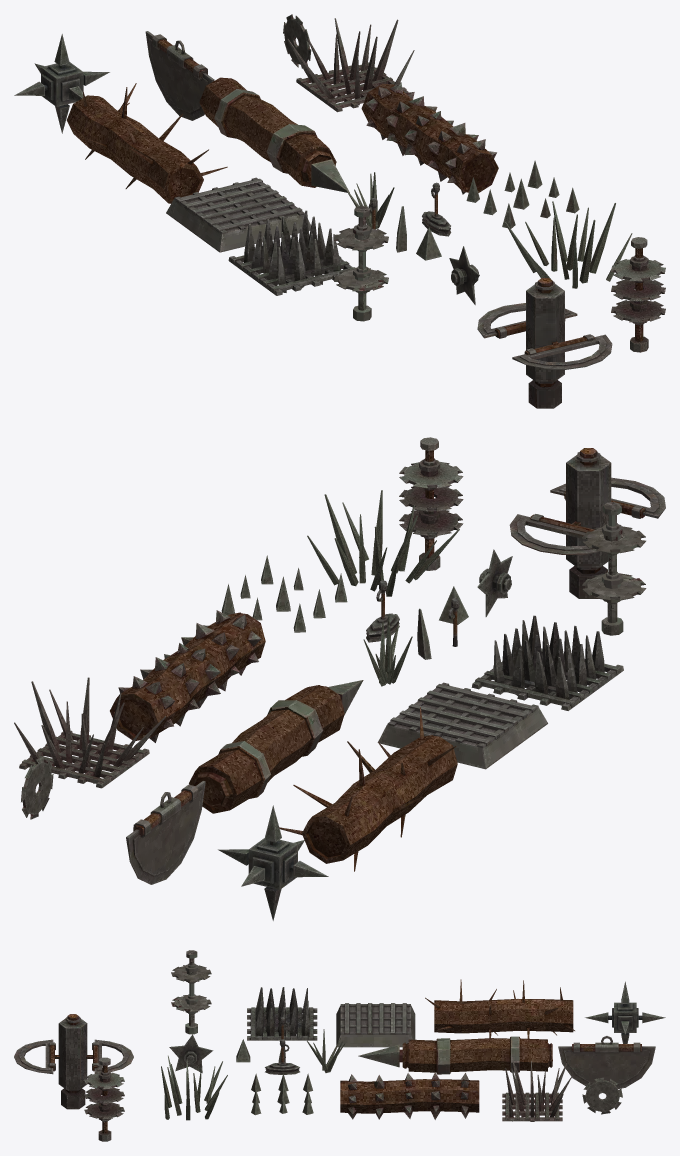
Rendered from traps-transformed.glb.
3 renders of one model, top to bottom at view 1: azimuth 30°, elevation 25°; view 2: azimuth 150°, elevation 25°; view 3: azimuth 270°, elevation 25°, orthographic. The views are drawn at different scales.
Parts seen in each view (by area): view 1: Log_Spiked_Variant3, Log_Spiked_Variant2, Log_Spiked_Variant1, Blades_Rotating, Base, Spikes_2, Spikes_3, Spinningblade_Variant_1, Trap_SpinningBlade_Upgraded_Variant_2, Blade_Guillotine, Spikes_1, Stone_Ball_Spiked (+4 smaller); view 2: Log_Spiked_Variant1, Log_Spiked_Variant2, Log_Spiked_Variant3, Base, Blades_Rotating, Spikes_2, Spikes_3, Spinningblade_Variant_1, Blade_Guillotine, Trap_SpinningBlade_Upgraded_Variant_2, Spikes_1, Stone_Ball_Spiked (+4 smaller); view 3: Log_Spiked_Variant3, Log_Spiked_Variant2, Log_Spiked_Variant1, Blades_Rotating, Blade_Guillotine, Base, Spikes_2, Spinningblade_Variant_1, Spikes_3, Trap_SpinningBlade_Upgraded_Variant_2, Spikes_1, Stone_Ball_Spiked (+4 smaller).
Boxes of the visible parts, box(x1,y1,x2,y2) form: Log_Spiked_Variant3: box(199, 77, 349, 192); Log_Spiked_Variant2: box(361, 82, 498, 194); Log_Spiked_Variant1: box(66, 83, 227, 203); Blades_Rotating: box(477, 278, 612, 408); Base: box(166, 177, 311, 252); Spikes_2: box(228, 210, 355, 295); Spikes_3: box(287, 18, 414, 112); Spinningblade_Variant_1: box(283, 14, 388, 321); Trap_SpinningBlade_Upgraded_Variant_2: box(611, 237, 665, 352); Blade_Guillotine: box(145, 31, 214, 120); Spikes_1: box(505, 201, 632, 288); Stone_Ball_Spiked: box(14, 34, 109, 133); Log_Spiked_Variant1: box(279, 707, 457, 871); Log_Spiked_Variant2: box(110, 610, 265, 742); Log_Spiked_Variant3: box(189, 680, 363, 813); Base: box(377, 682, 547, 769); Blades_Rotating: box(509, 448, 665, 598); Spikes_2: box(471, 615, 623, 710); Spikes_3: box(14, 677, 166, 788); Spinningblade_Variant_1: box(21, 502, 646, 819); Blade_Guillotine: box(126, 781, 205, 884); Trap_SpinningBlade_Upgraded_Variant_2: box(399, 437, 463, 570); Spikes_1: box(307, 490, 459, 596); Stone_Ball_Spiked: box(218, 805, 328, 920); Log_Spiked_Variant3: box(358, 1036, 552, 1074); Log_Spiked_Variant2: box(340, 1072, 479, 1119); Log_Spiked_Variant1: box(425, 979, 574, 1038); Blades_Rotating: box(14, 1014, 133, 1109); Blade_Guillotine: box(558, 1036, 655, 1088); Base: box(336, 1003, 415, 1047); Spikes_2: box(247, 987, 317, 1040); Spinningblade_Variant_1: box(171, 950, 622, 1114); Spikes_3: box(502, 1057, 571, 1121); Trap_SpinningBlade_Upgraded_Variant_2: box(84, 1057, 124, 1141); Spikes_1: box(161, 1055, 227, 1120); Stone_Ball_Spiked: box(585, 981, 665, 1043).
Bounding box in the file's own units: 11.74 × 5.49 × 27.99.
Materials: 18 (18 with a texture image).
